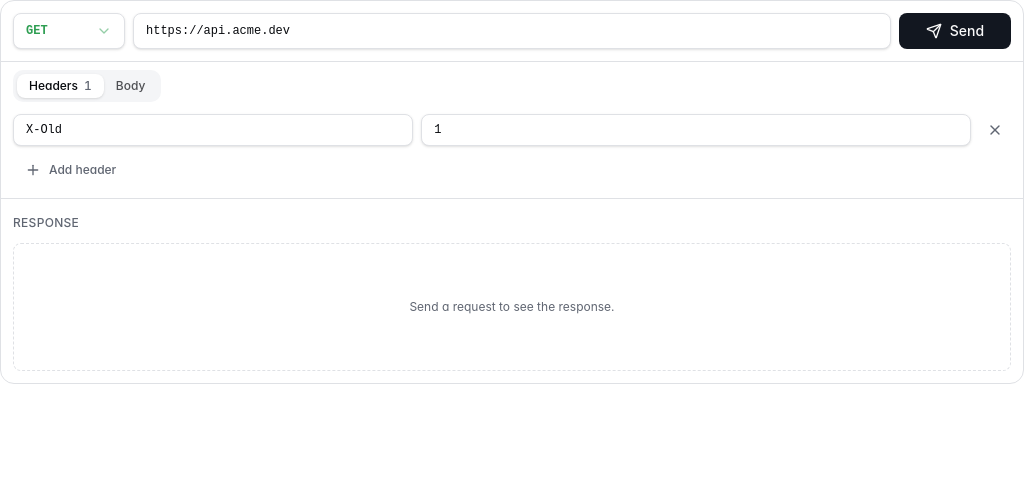
Test case: ApiRequestPlayground › adds and removes header rows, ignoring blank keys
This screenshot has width=1024, height=481.
Click the button "Add header".
click(71, 170)  # box [13,154,128,186]
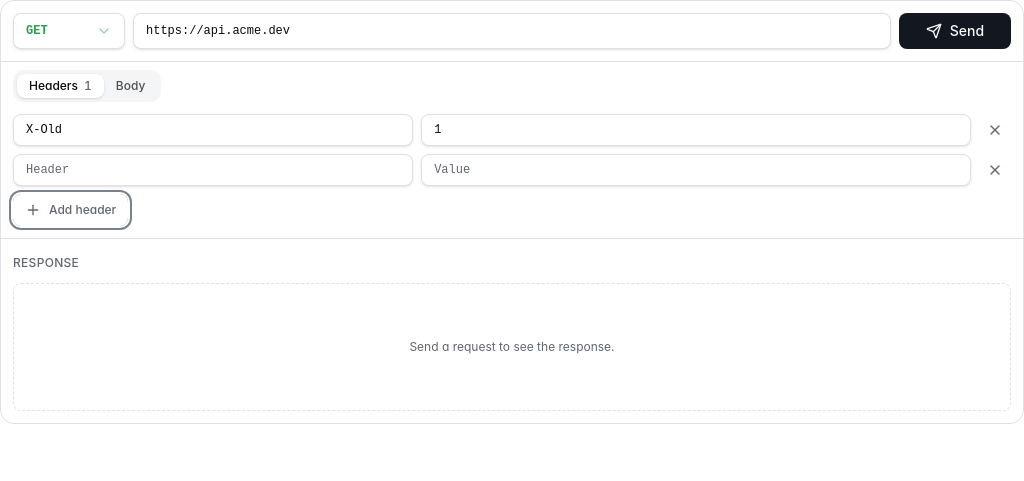
Type "X-Trace" into the field named "Header 2 name".
click(213, 170); type("X-Trace")  # box [13,154,413,186]
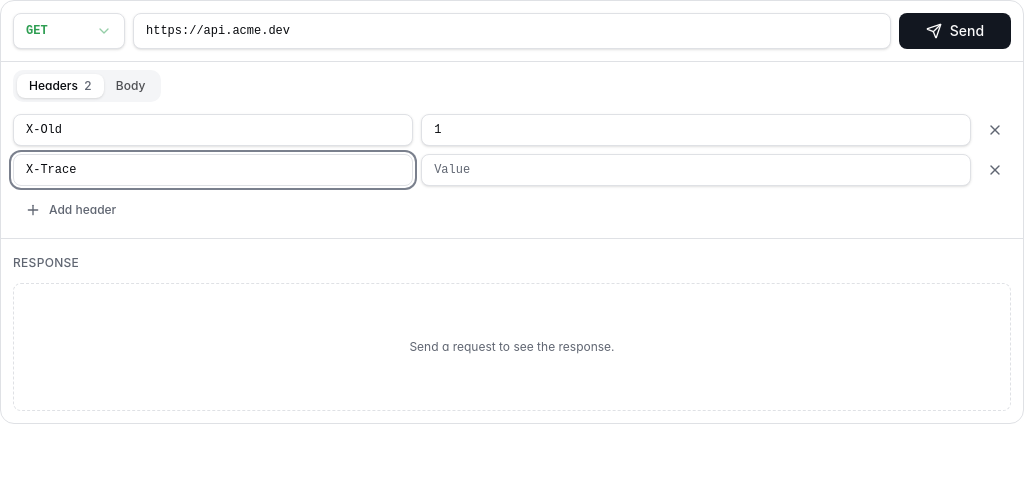
Type "abc" into the field named "Header 2 value".
click(696, 170); type("abc")  # box [421,154,971,186]
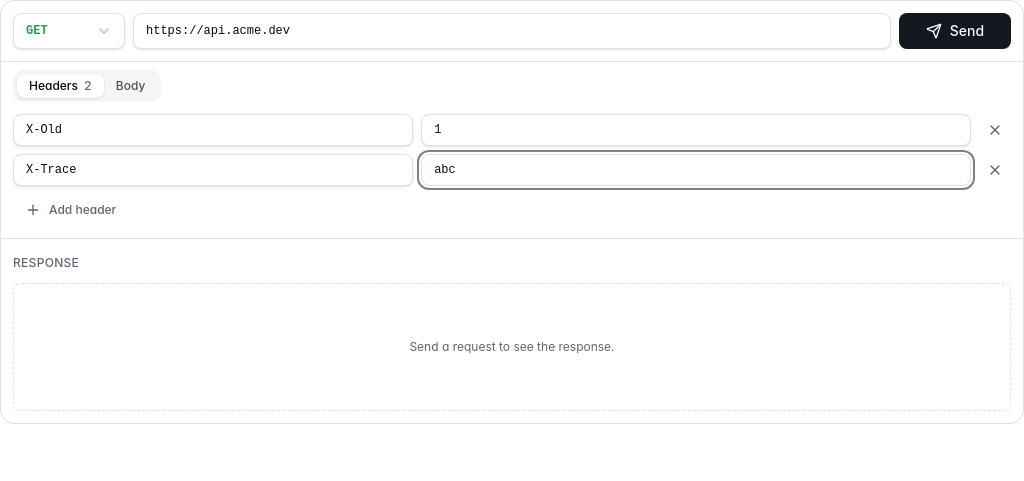
Click the button "Add header".
click(71, 210)  # box [13,194,128,226]
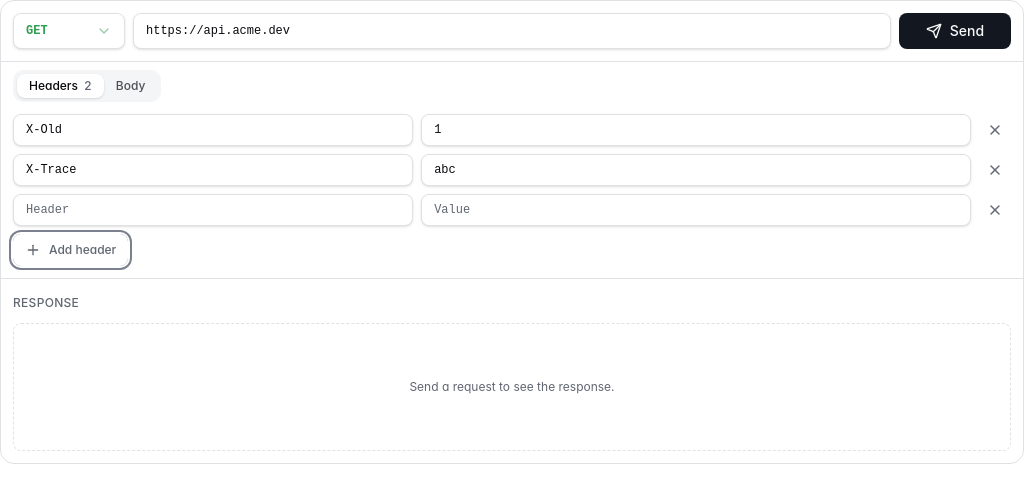
Click the button named "Remove header X-Old".
click(995, 130)  # box [979,114,1011,146]
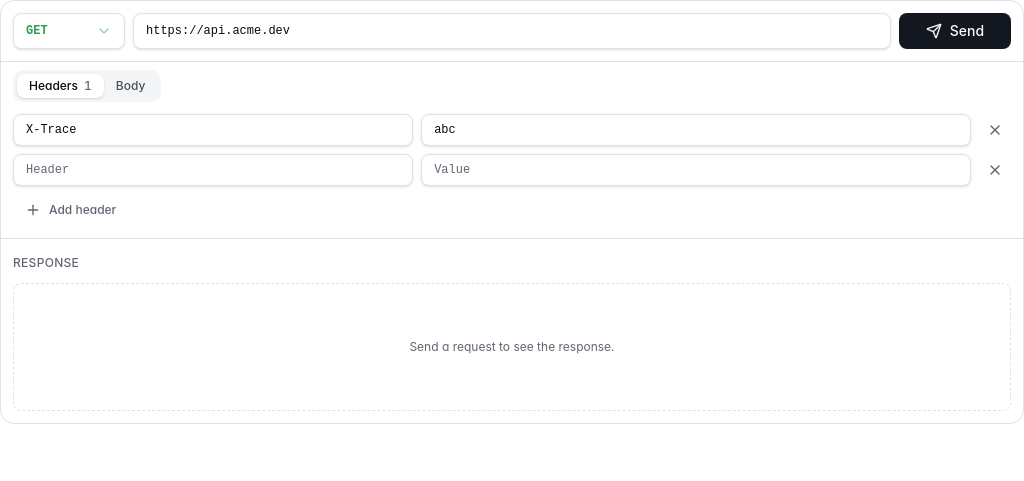
Click the button "Send".
click(955, 31)  # box [899,13,1011,49]
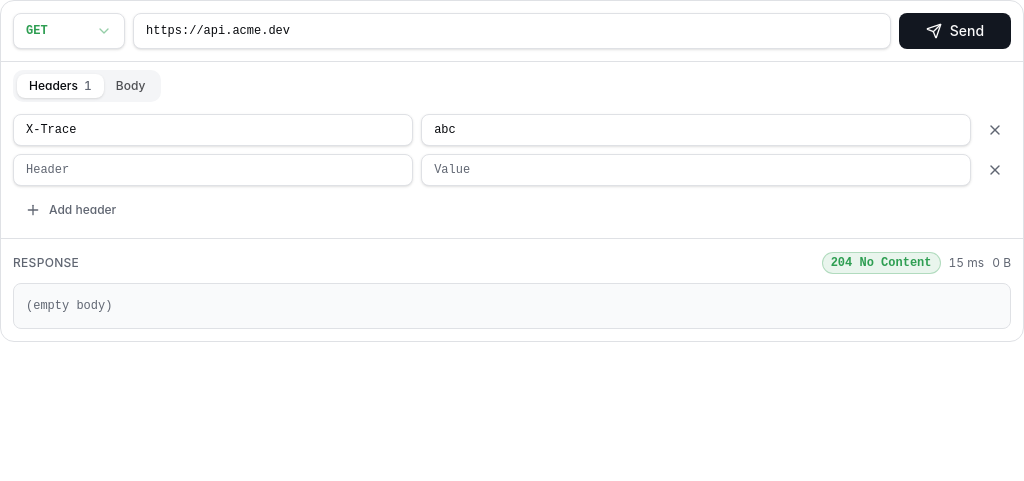
Now the text "204 No Content" is shown, box [822,252,940,274]
